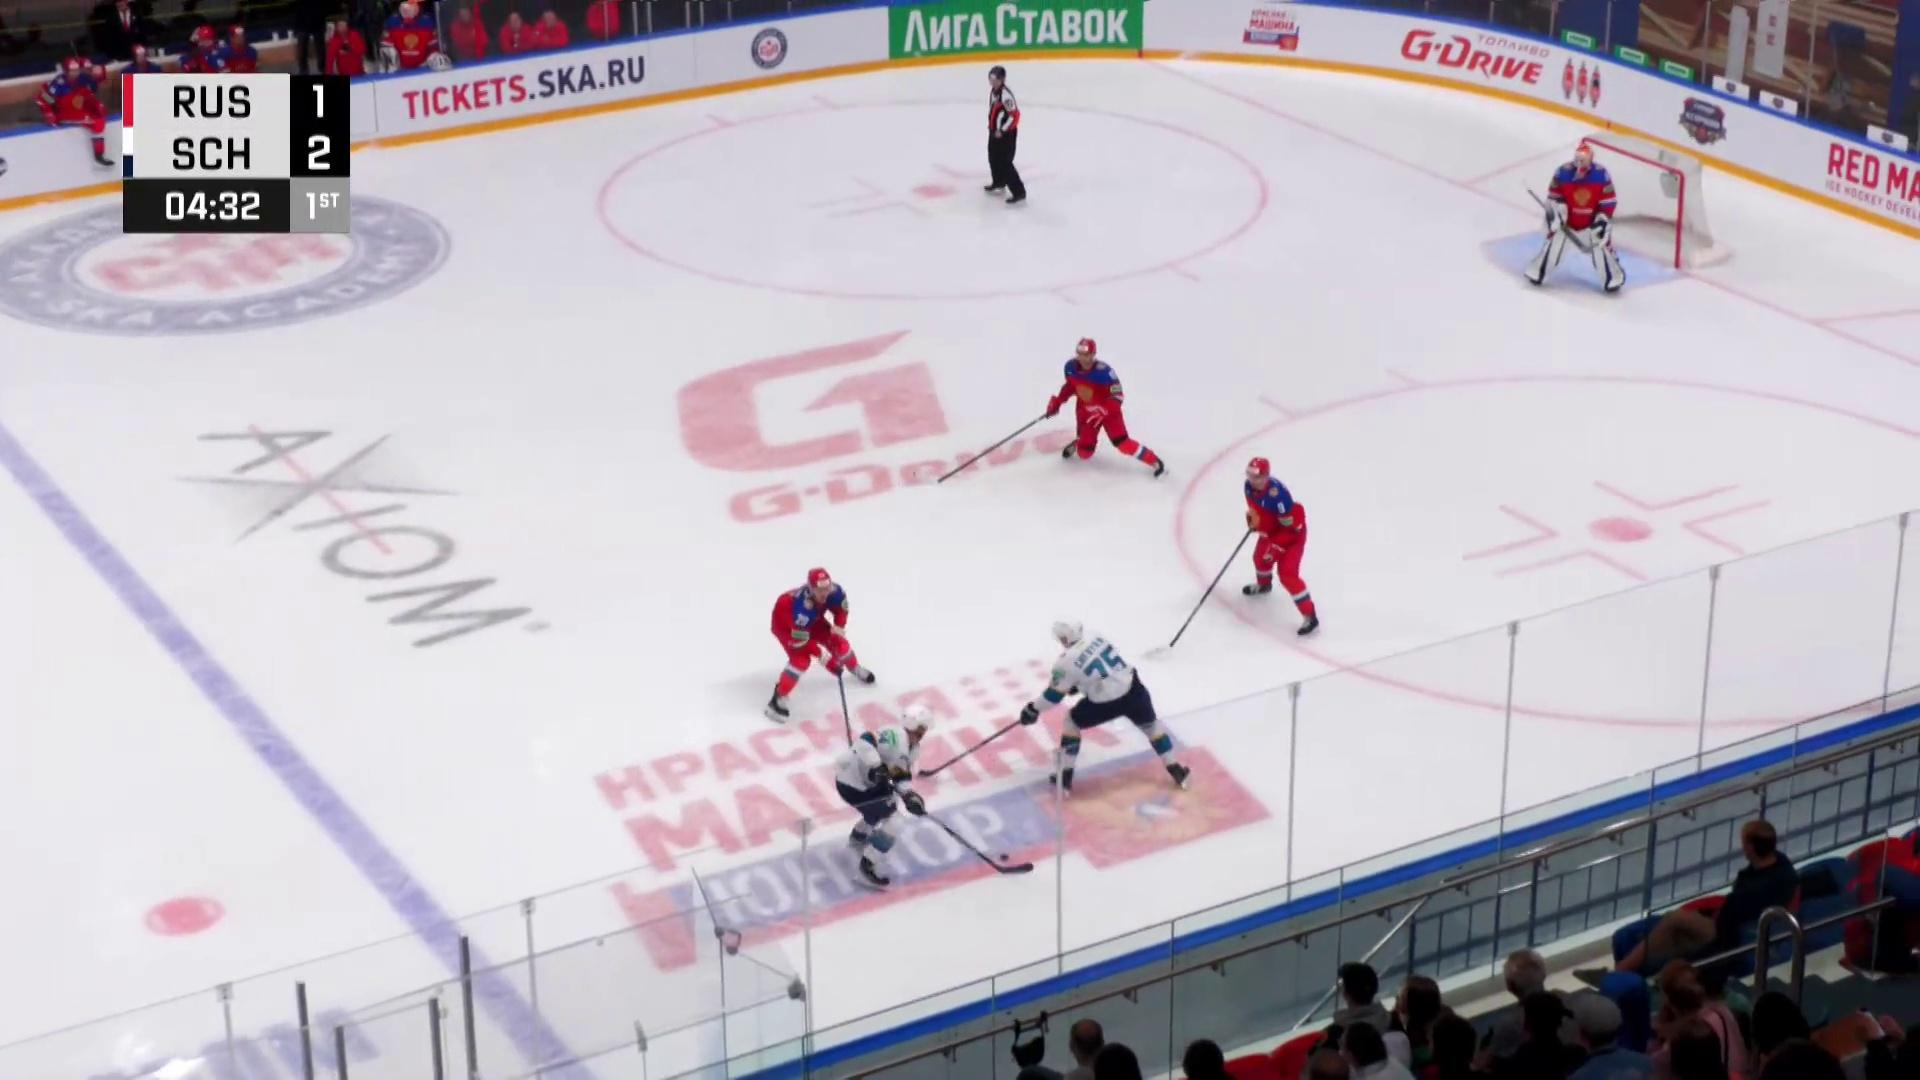ball: (1000, 853, 1010, 861)
